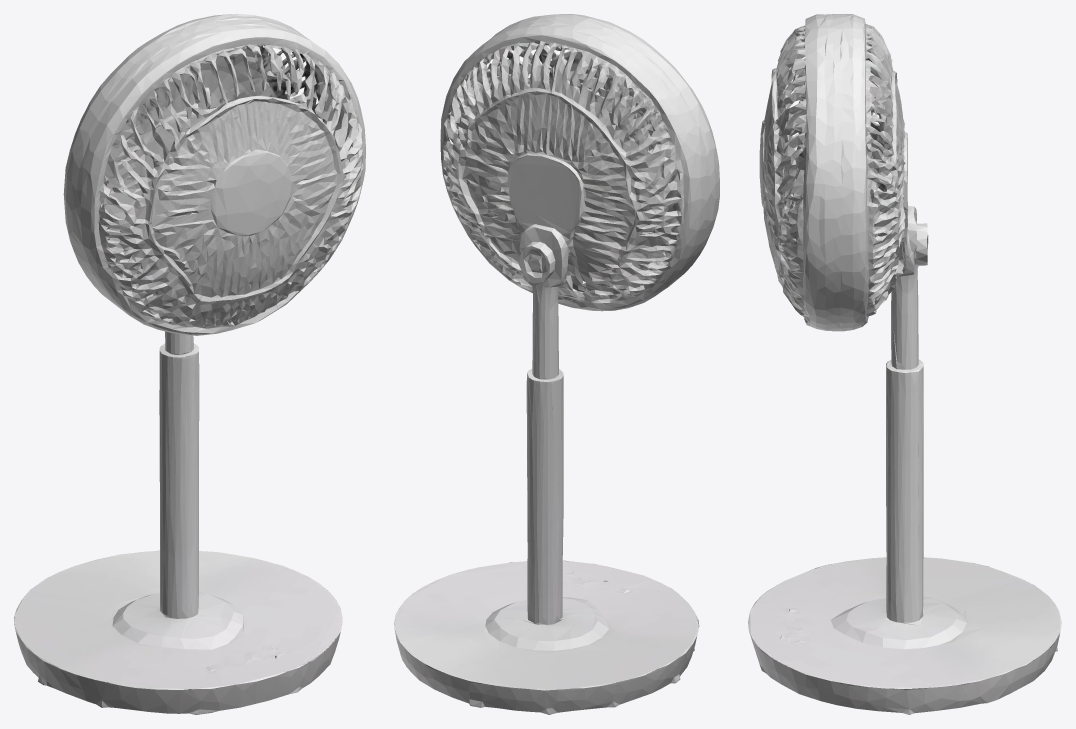
The picture shows the model from 3 angles, left to right: view 1: azimuth 30°, elevation 25°; view 2: azimuth 150°, elevation 25°; view 3: azimuth 270°, elevation 25°; orthographic projection. The views are drawn at different scales.
Visible parts, largest first — view 1: world; view 2: world; view 3: world.
Part boxes in pixels (left/top/right/bottom): world: left=14, top=14, right=365, bottom=714; world: left=394, top=14, right=719, bottom=714; world: left=748, top=14, right=1061, bottom=714.
Size of the model in its own units: 0.4594 by 1 by 0.4574.
Materials: 1 (1 with a texture image).
